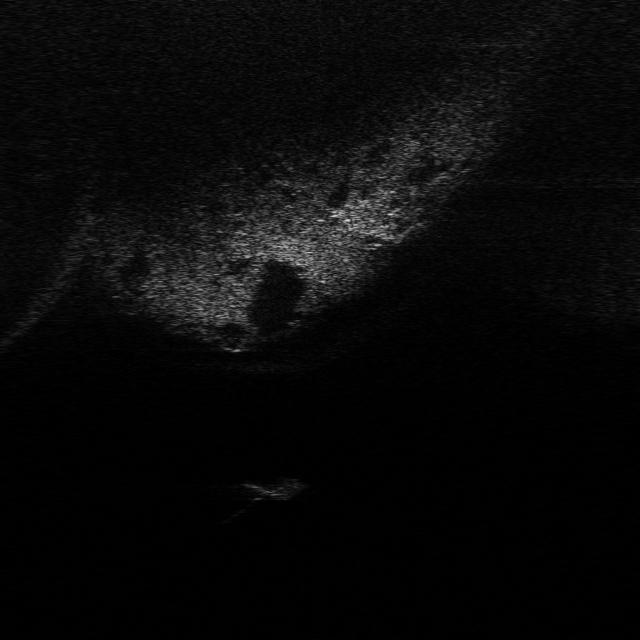cube: (241, 474, 308, 502)
